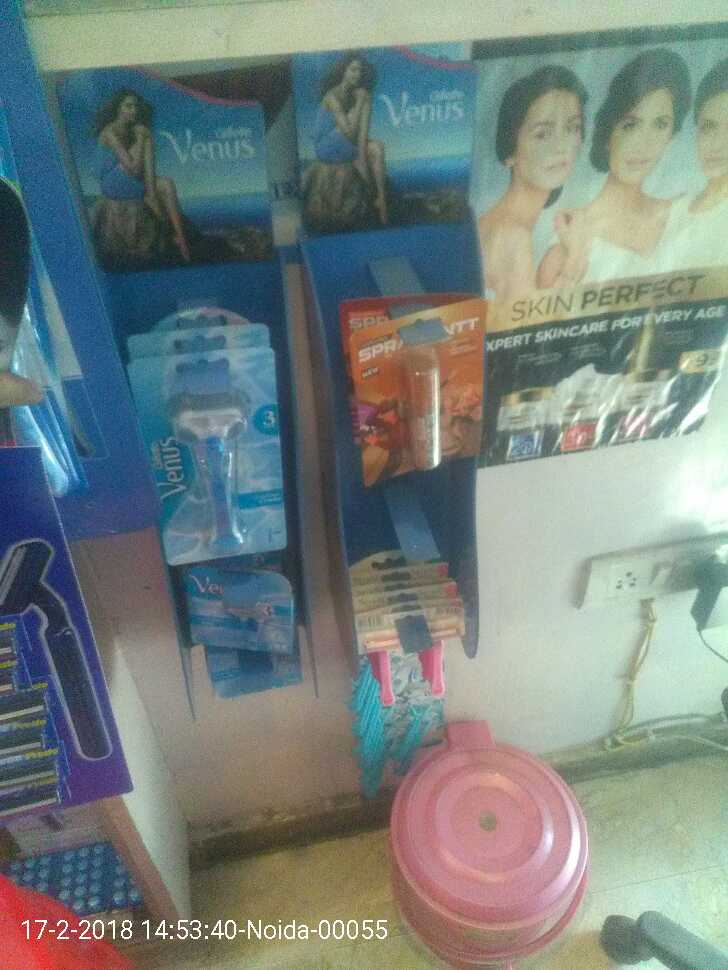venus: (132, 356, 289, 553), (167, 557, 304, 673)
